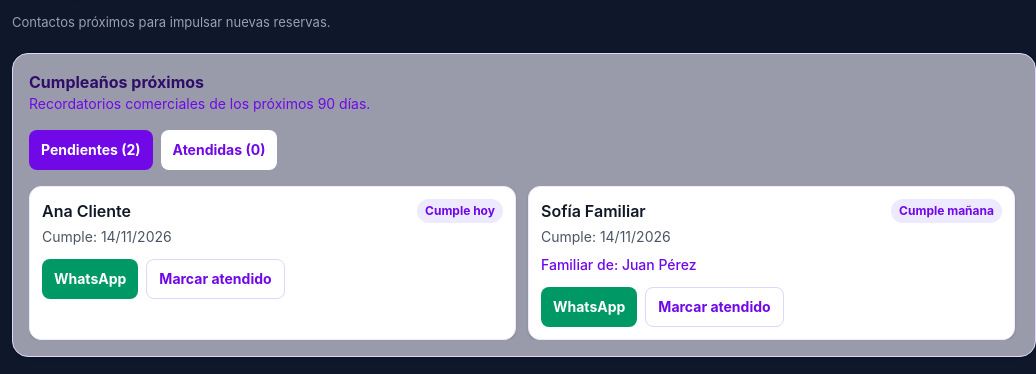
Scenario: OportunidadesPage › marks client and family opportunities with their exact campaign identity
Expected: the heading "Ana Cliente" is shown, [42,200,131,220]
Expected: the button named "Marcar como atendida la oportunidad de cumpleaños de Ana Cliente" reads "Marcar atendido", [146,258,285,298]
Click the button named "Marcar como atendida la oportunidad de cumpleaños de Sofía Familiar".
click(714, 306)  # box [645,286,784,326]
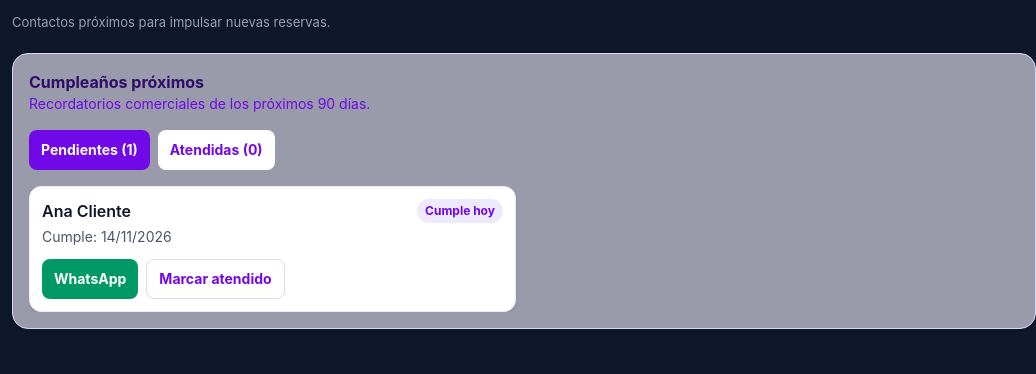
Expected: the element with test id "cumpleanios-1" is shown, [29,186,516,312]
Now the element with test id "cumpleanios-2" is gone
Now the tab "Pendientes (1)" is shown, box [29,130,150,170]
